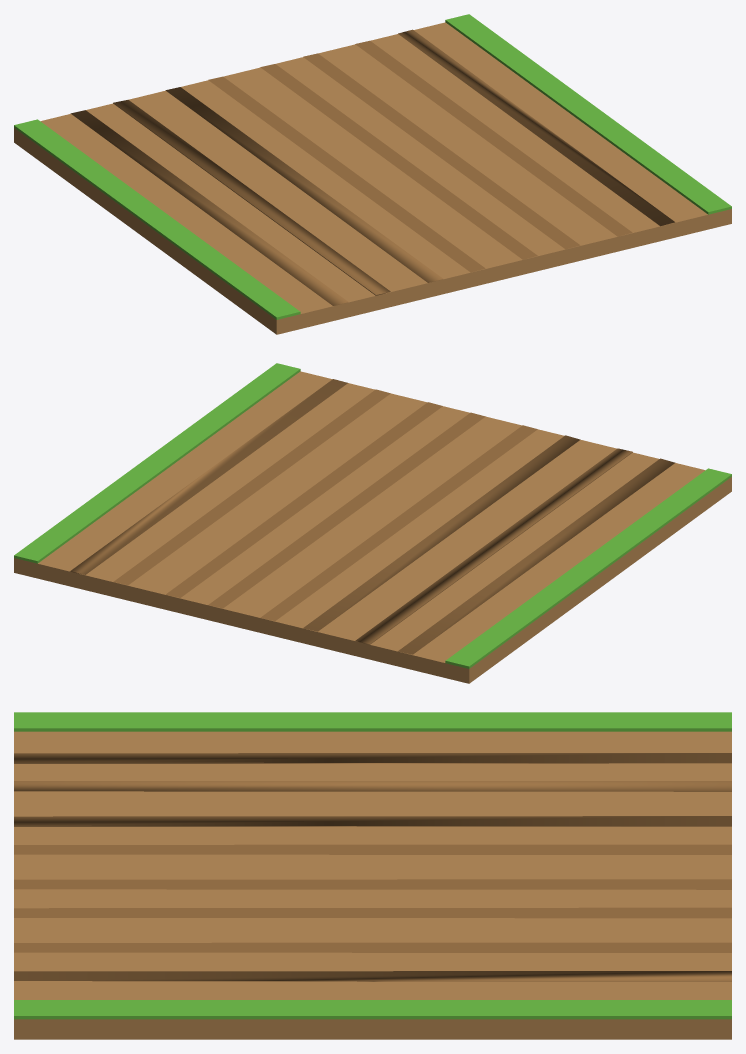
File: farm_tile_lod.glb
The picture shows the model from 3 angles, top to bottom: view 1: azimuth 30°, elevation 25°; view 2: azimuth 150°, elevation 25°; view 3: azimuth 270°, elevation 25°; orthographic projection. The views are drawn at different scales.
Visible parts, largest first — view 1: farm_tile_lod; view 2: farm_tile_lod; view 3: farm_tile_lod.
Boxes of the visible parts, bbox=[...] form: farm_tile_lod: bbox=[14, 14, 731, 334]; farm_tile_lod: bbox=[14, 363, 731, 683]; farm_tile_lod: bbox=[14, 712, 731, 1039].
Bounding box in the file's own units: 9.6 × 0.35 × 9.6.
